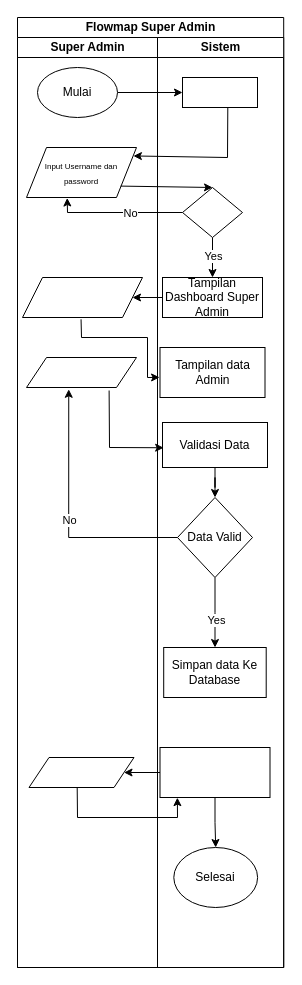
This 302x985 diagram has some shape labels left out. The box of each missing label's shape, as (x1, y1, x2, y2) in pixels:
Hapus Data: (28, 756, 134, 788)
Input / Edit data: (26, 356, 136, 388)
Pilih Menu Pengelolaan Admin: (22, 276, 142, 318)
Tampilan Login: (182, 76, 258, 108)
Tampilkan data yang diperbarui: (159, 746, 270, 798)
Valid: (182, 186, 242, 238)
